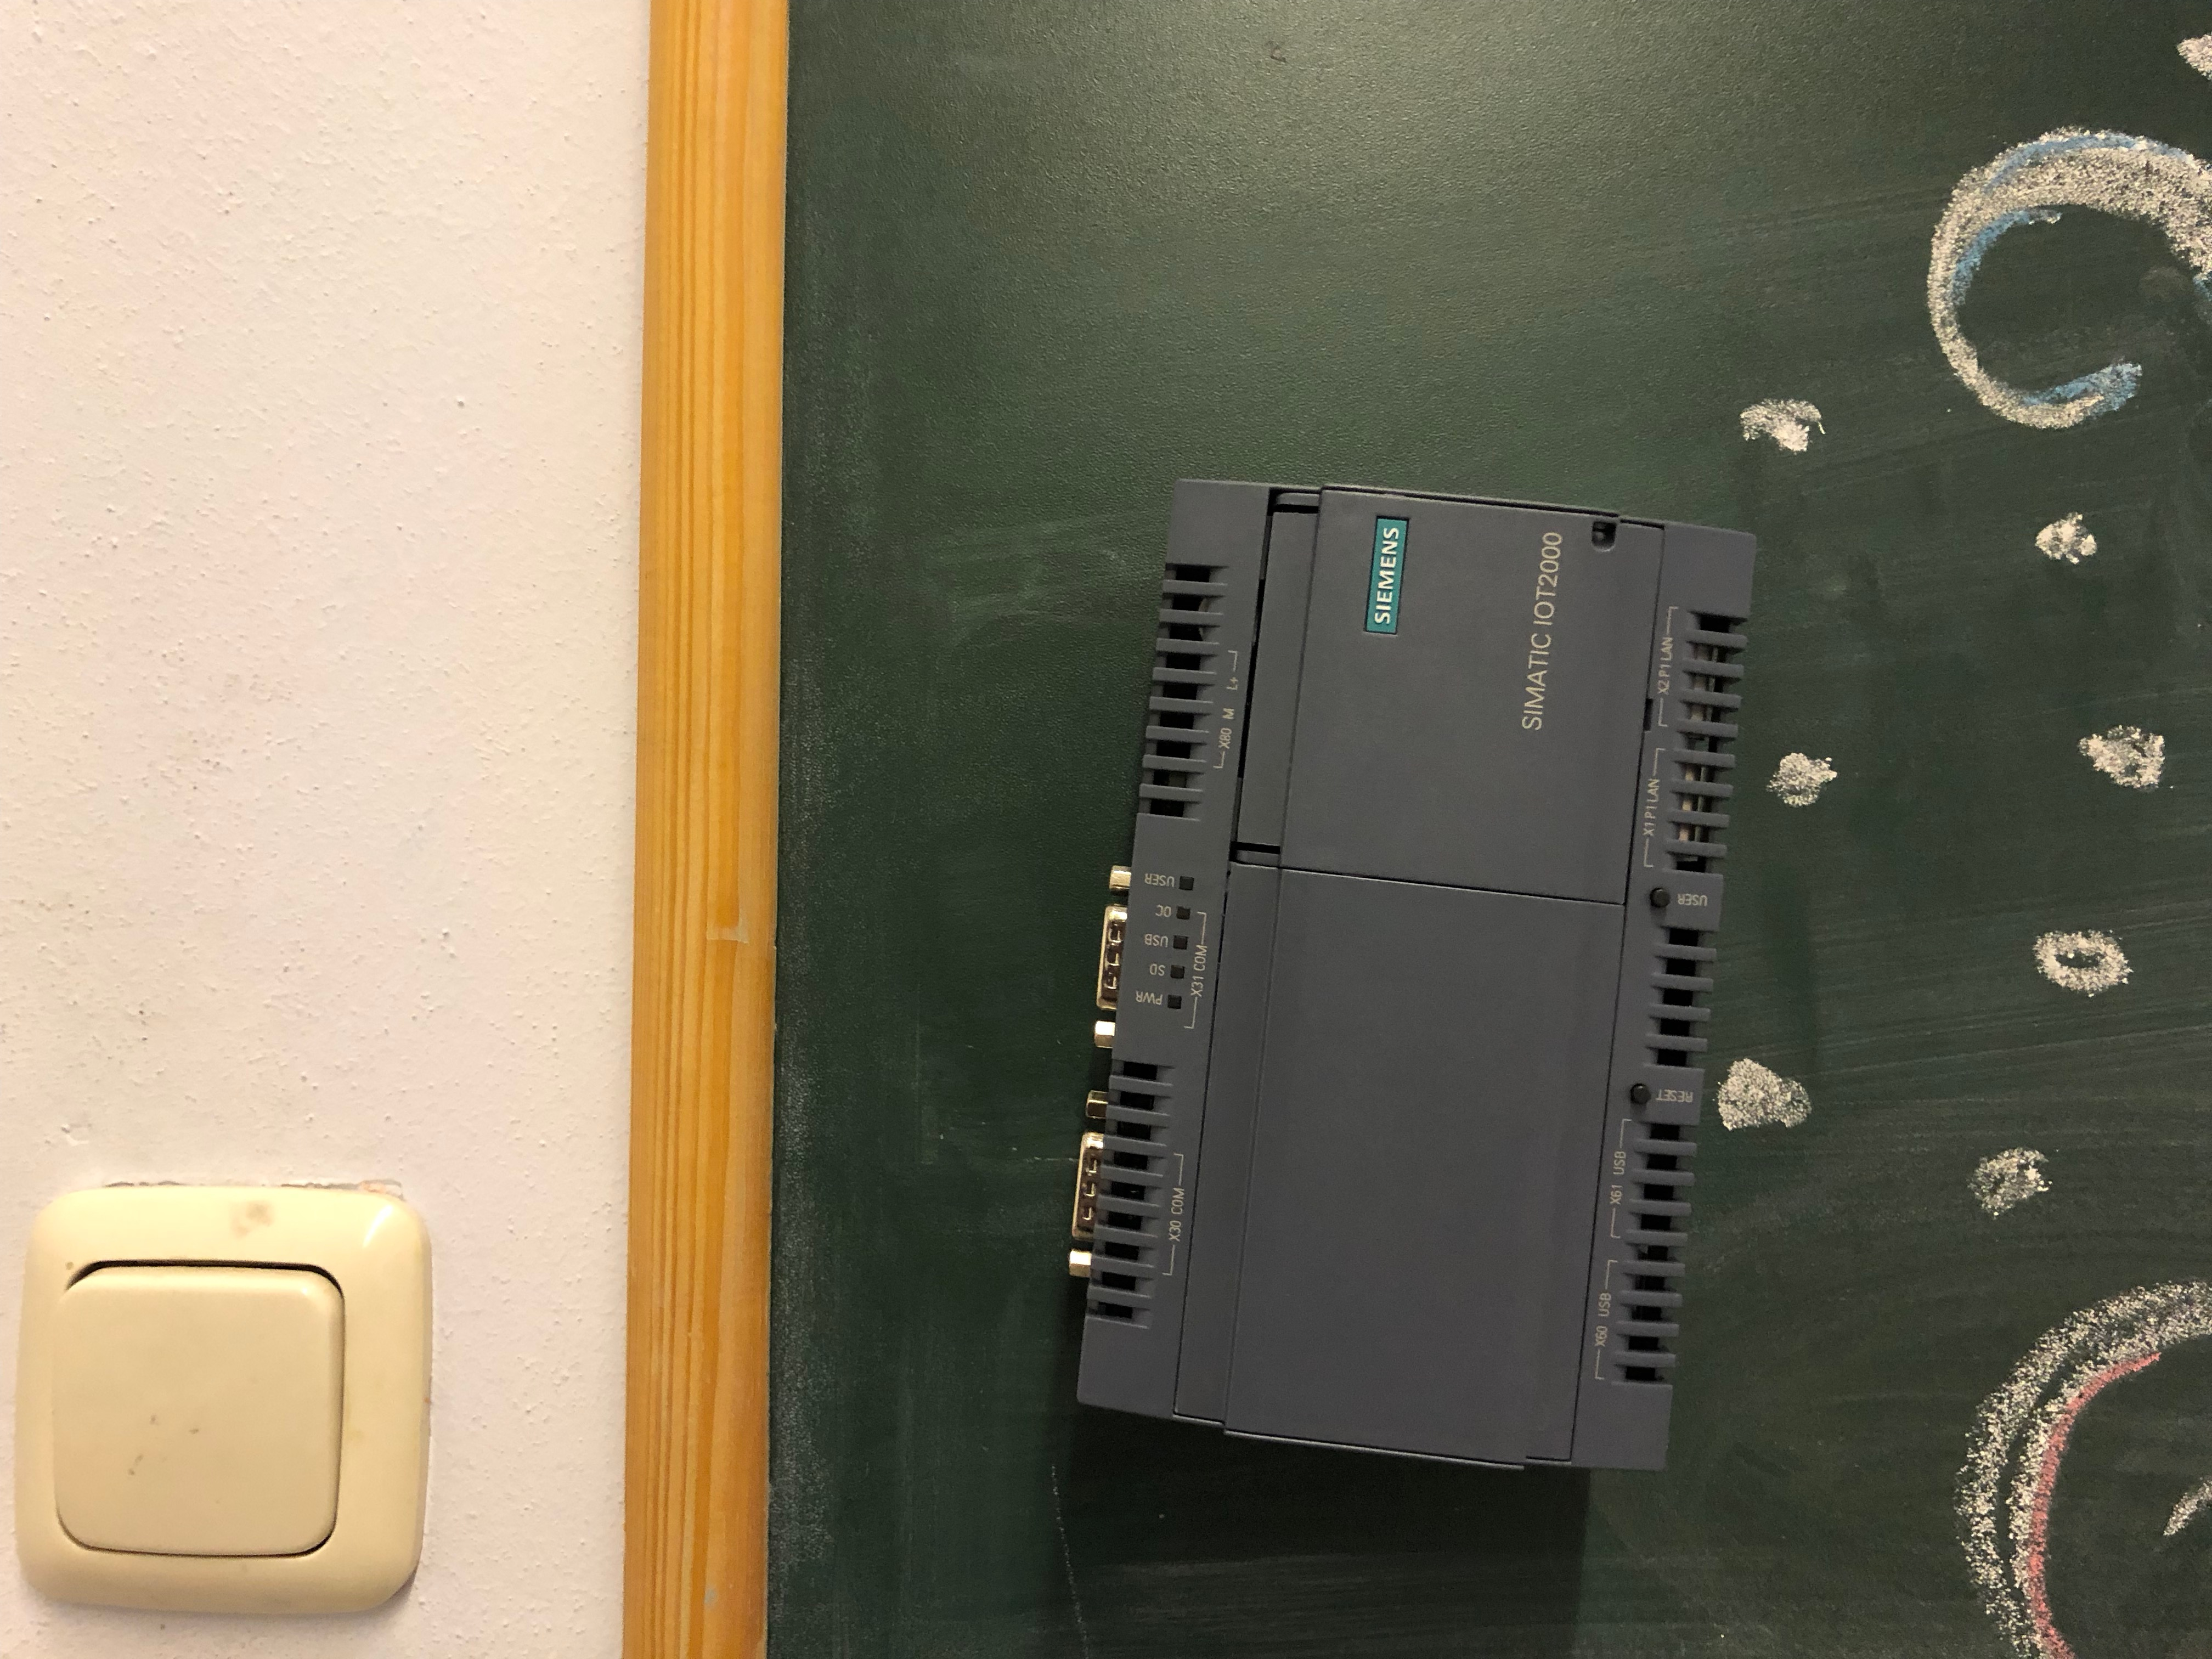device: (1068, 477, 1759, 1474)
